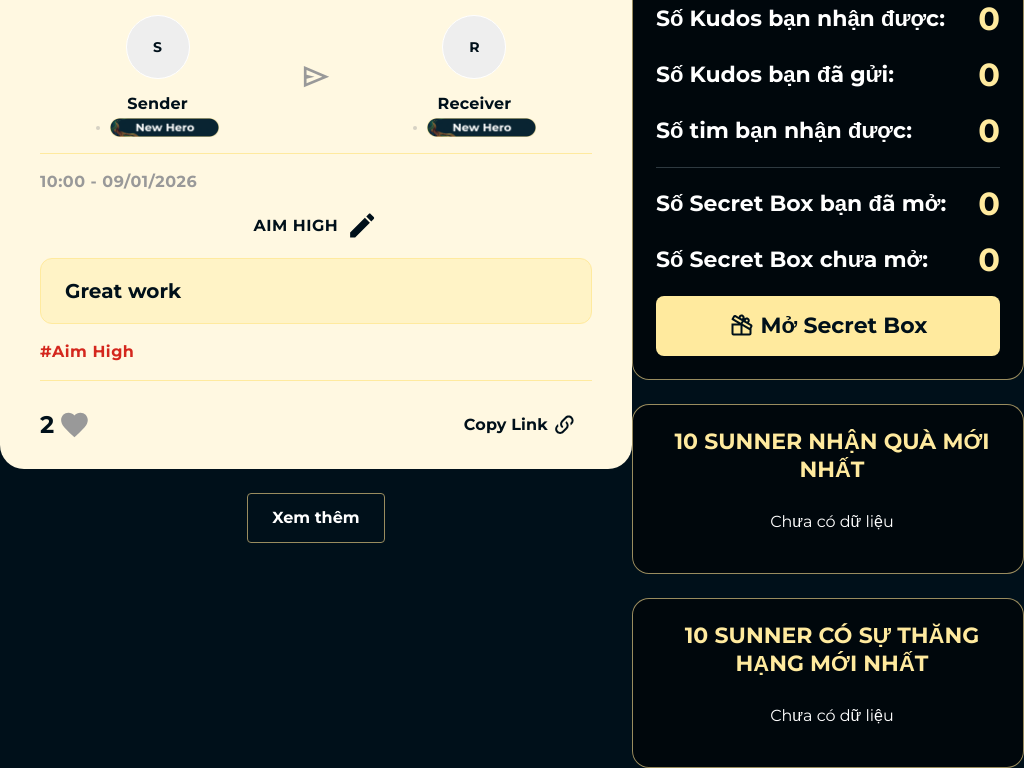
KudosFeedContainer › copying a link shows the verbatim toast text (TC 0adfd7ce)
(page scrolled)
Click the button with test id "kudos-card-copy-link-btn".
click(520, 425)  # box [448,397,592,453]
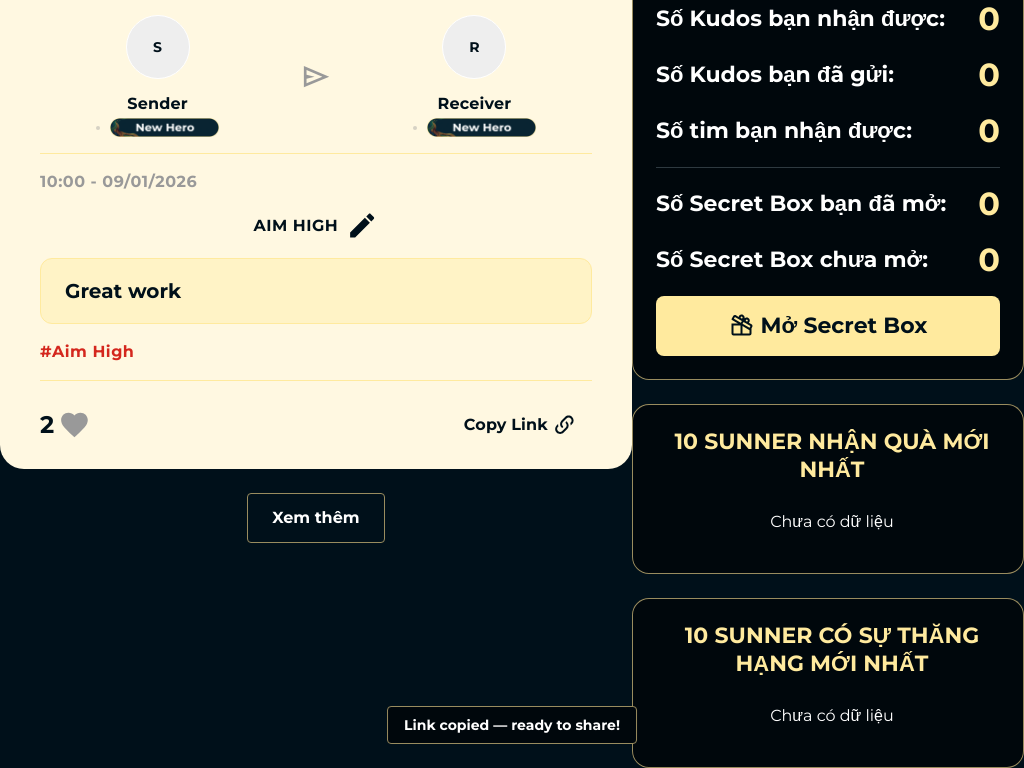
Now the message with test id "toast" reads "Link copied — ready to share!", box [404,716,620,734]
